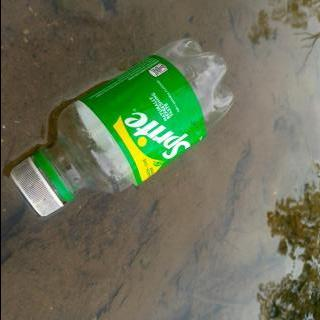bottle: (6, 37, 235, 221)
